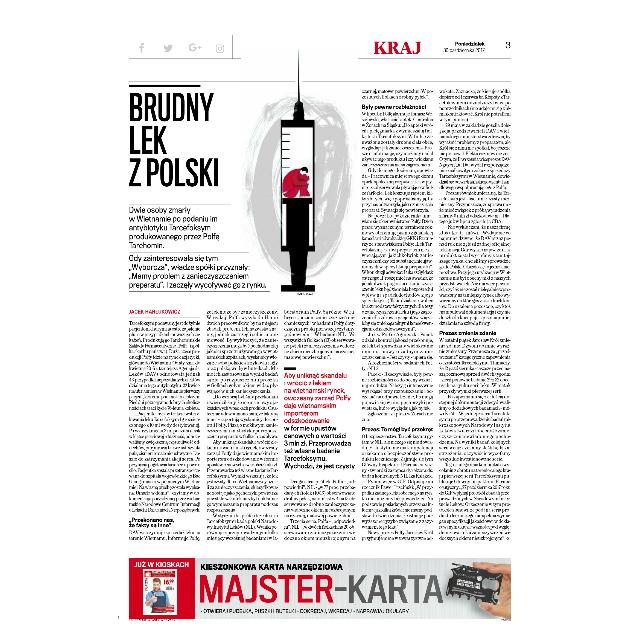article: (128, 84, 512, 546)
